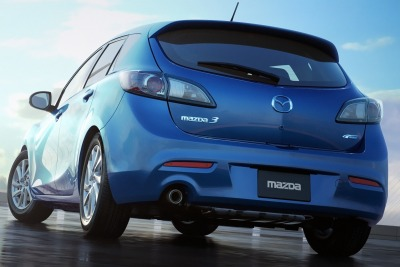Mazda3 Hatchback: (7, 19, 389, 261)
